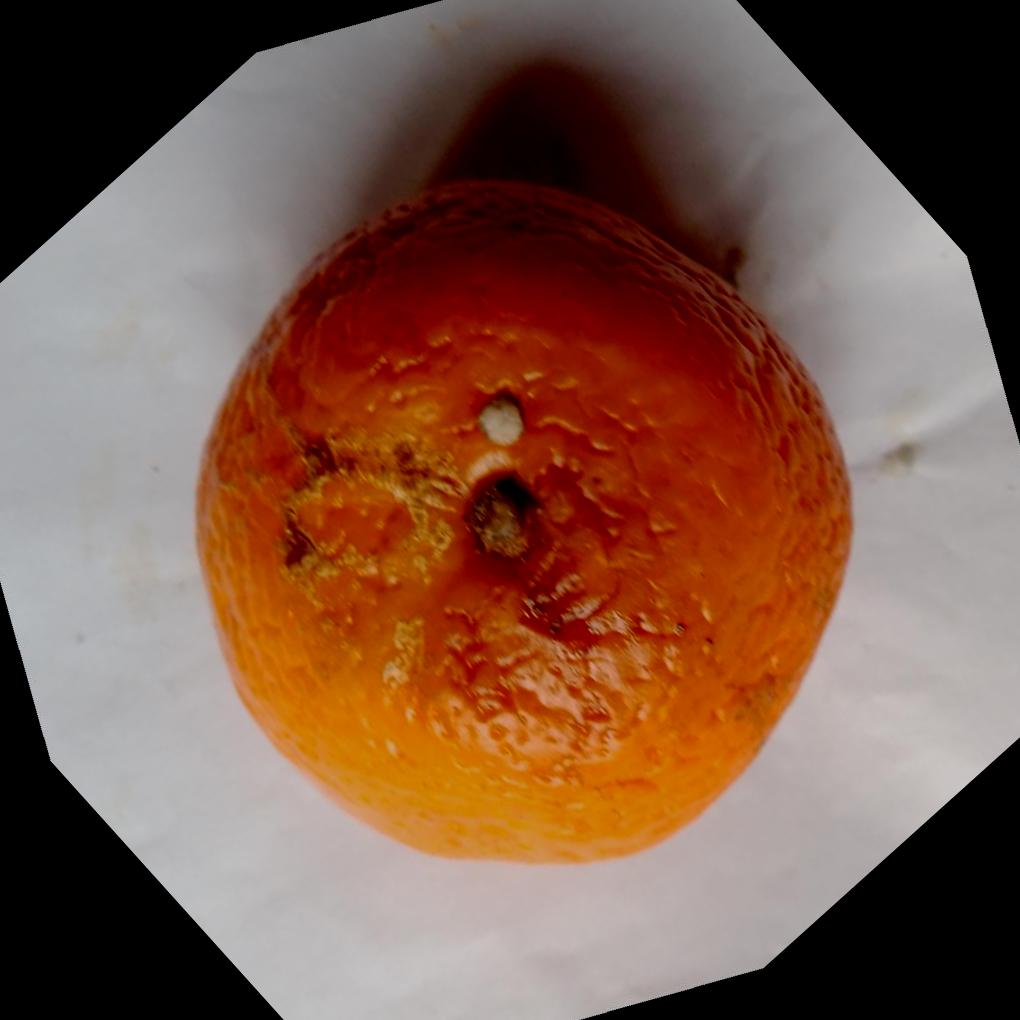FreshOrange: (188, 175, 854, 871)
